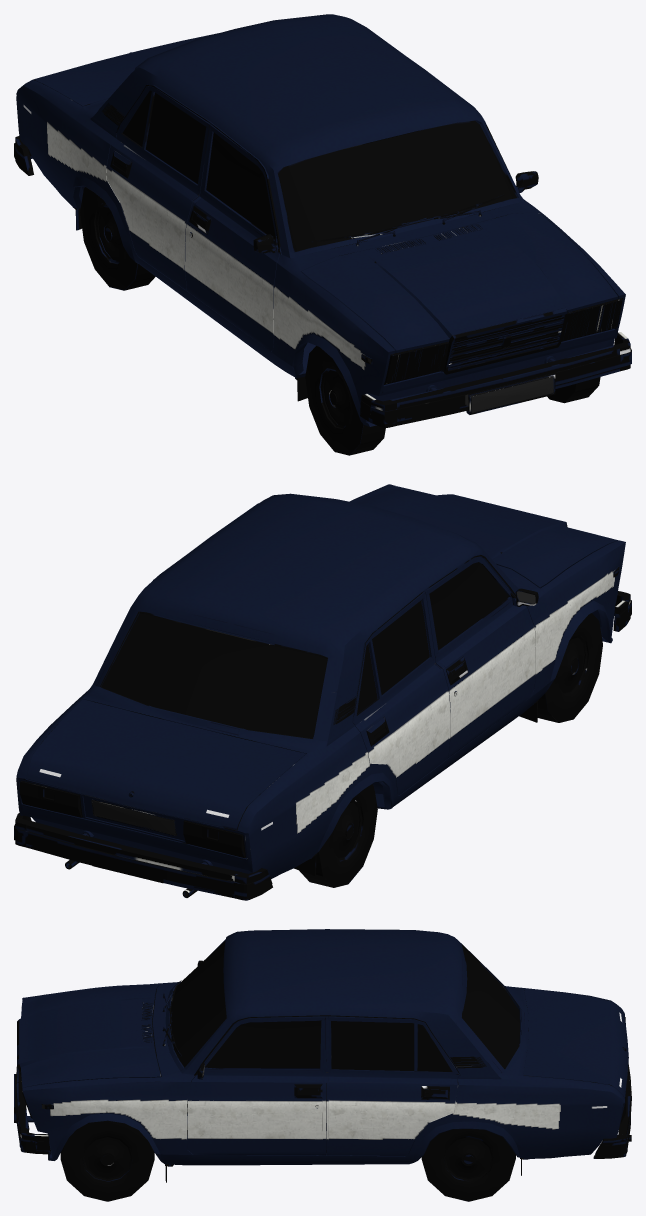
Rendered from Car.fbx.
The picture shows the model from 3 angles, top to bottom: view 1: azimuth 30°, elevation 25°; view 2: azimuth 150°, elevation 25°; view 3: azimuth 270°, elevation 25°; orthographic projection. The views are drawn at different scales.
Visible parts, largest first — view 1: Car_StationWagon_white.001; view 2: Car_StationWagon_white.001; view 3: Car_StationWagon_white.001.
Boxes of the visible parts, x1,y1,x2,y2 form: Car_StationWagon_white.001: [14, 14, 631, 455]; Car_StationWagon_white.001: [14, 484, 631, 900]; Car_StationWagon_white.001: [14, 929, 631, 1201].
Size of the model in its own units: 347 by 288 by 818.
